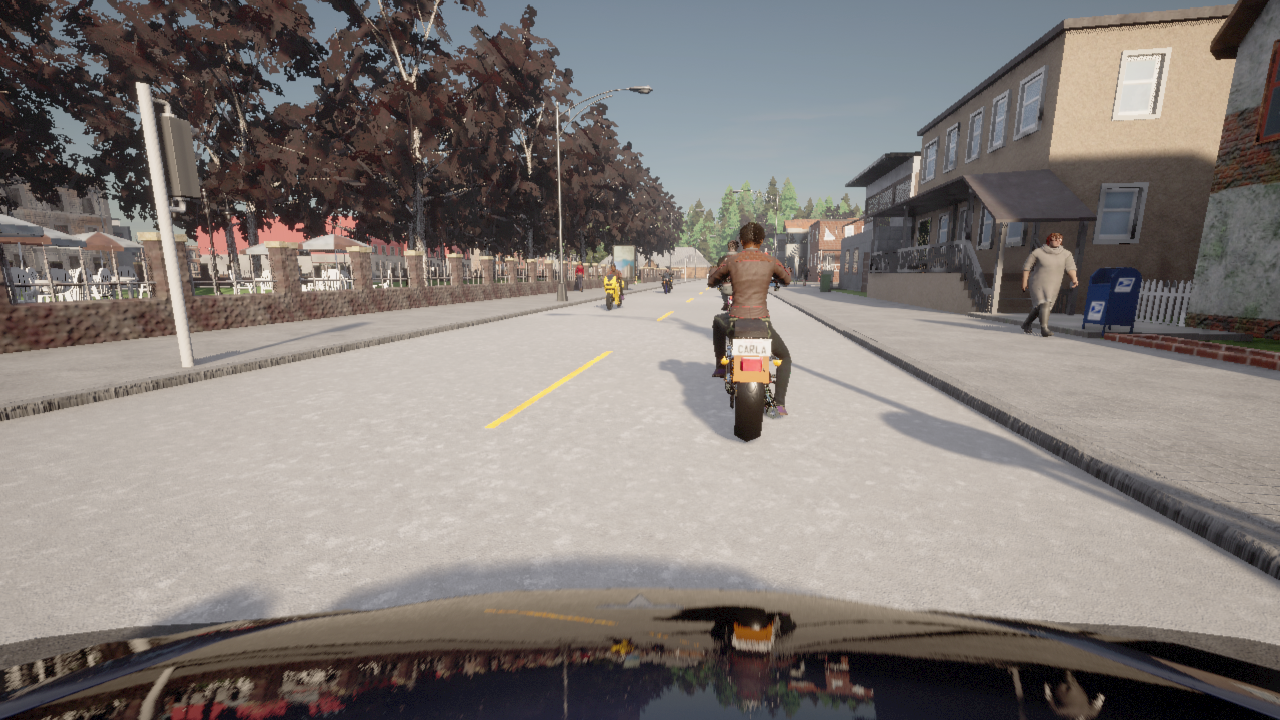cyclist: (0, 588, 1279, 719), (709, 266, 791, 441), (598, 274, 625, 309), (661, 273, 673, 293), (723, 296, 731, 312)
pedestrian: (1021, 233, 1077, 336), (575, 261, 583, 291), (801, 264, 809, 286), (635, 276, 636, 284), (785, 264, 786, 266)
